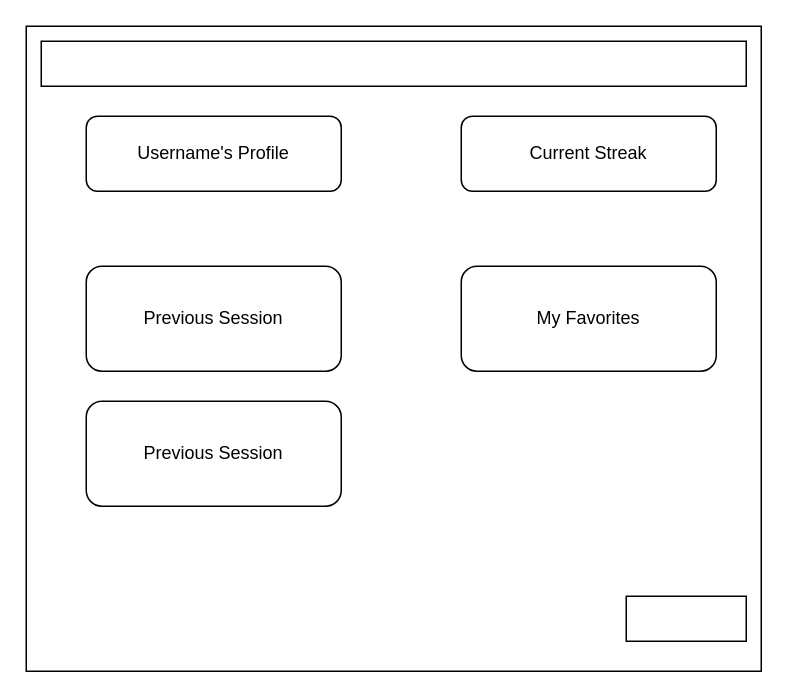
The diagram is 788 pixels wide and 698 high, and some of its shapes have lost their labels. Here are the shapes that lost their labels. From the top down, the centre of each, then its label:
point (393, 63): NAVBAR
point (685, 618): Delete User Profile
